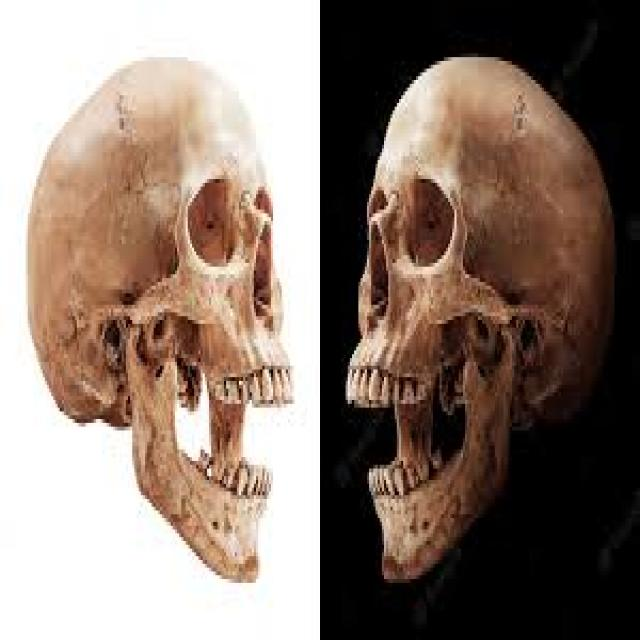skull: (338, 54, 621, 590)
